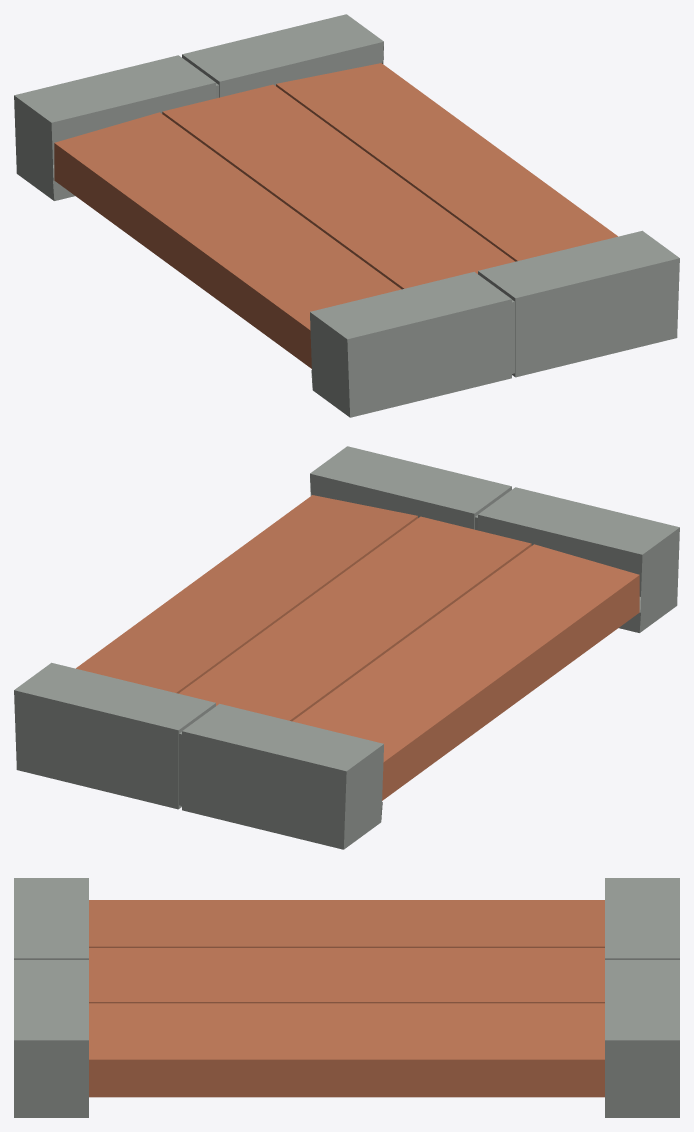
Rendered from BridgeMiddle.fbx.
The picture shows the model from 3 angles, top to bottom: view 1: azimuth 30°, elevation 25°; view 2: azimuth 150°, elevation 25°; view 3: azimuth 270°, elevation 25°; orthographic projection.
Parts seen in each view (by area): view 1: Cube.032; view 2: Cube.032; view 3: Cube.032.
Part boxes in pixels (box(x1,y1,x2,y2)): Cube.032: box(14, 14, 679, 417); Cube.032: box(14, 446, 679, 849); Cube.032: box(14, 878, 679, 1117).
Bounding box in the file's own units: 59.58 × 13.55 × 103.
1 material, 1 textured.
